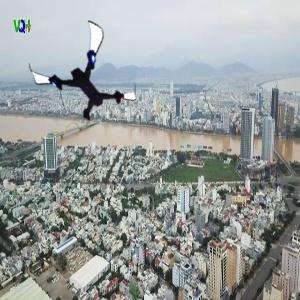drone: (33, 31, 130, 128)
